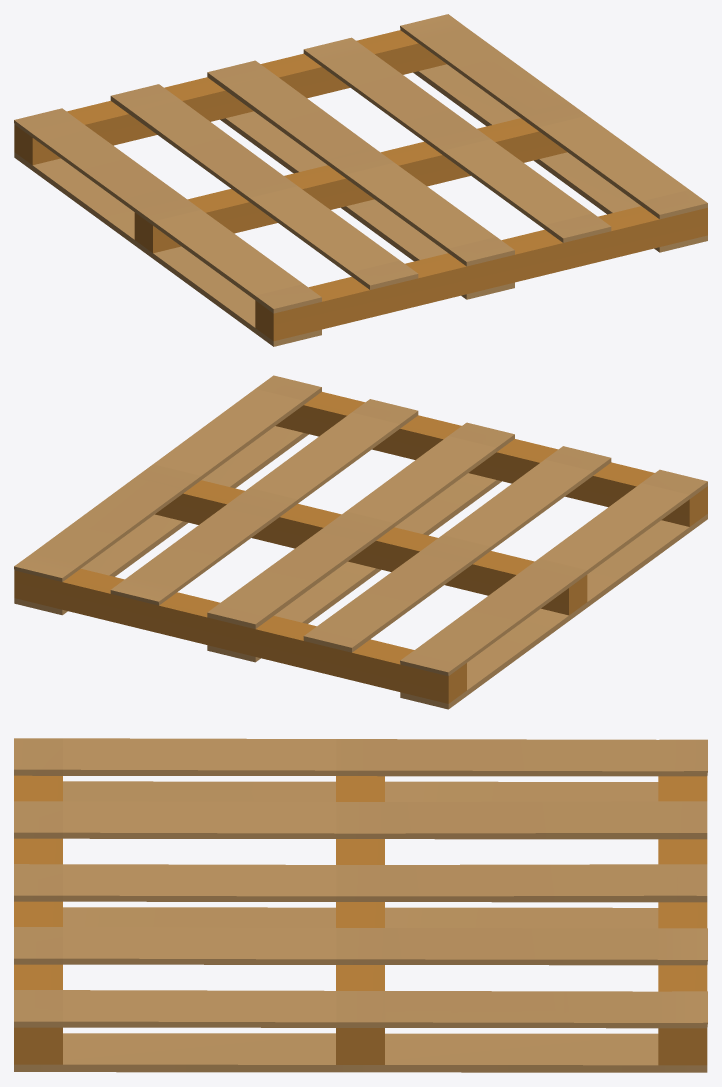
File: Large Single Pallet Light.fbx
3 views of the same model, one above another, from view 1: azimuth 30°, elevation 25°; view 2: azimuth 150°, elevation 25°; view 3: azimuth 270°, elevation 25° (orthographic). The views are drawn at different scales.
Parts seen in each view (by area): view 1: Large Single Pallet Light; view 2: Large Single Pallet Light; view 3: Large Single Pallet Light.
Boxes of the visible parts, x1,y1,x2,y2 form: Large Single Pallet Light: (14, 14, 707, 346); Large Single Pallet Light: (14, 375, 707, 709); Large Single Pallet Light: (14, 738, 707, 1072).
Bounding box in the file's own units: 49.75 × 611 × 590.
Materials: 1 (1 with a texture image).
